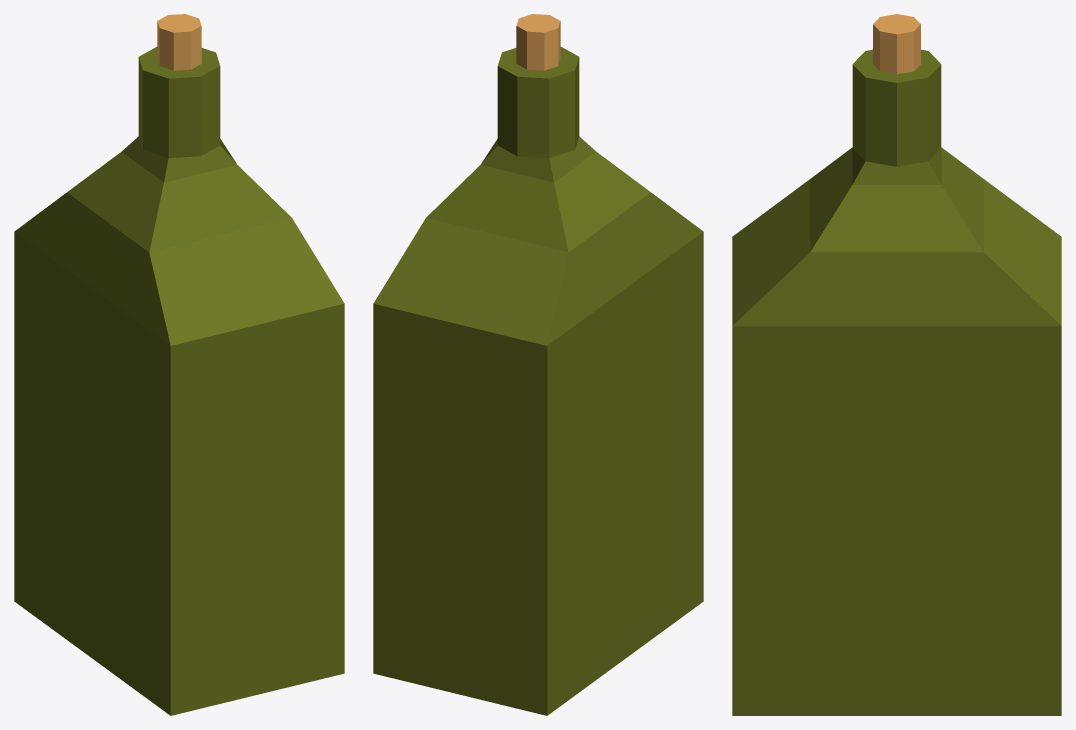
The model's file is bottle-whiskey.fbx.
3 renders of one model, left to right at view 1: azimuth 30°, elevation 25°; view 2: azimuth 150°, elevation 25°; view 3: azimuth 270°, elevation 25°, orthographic. The views are drawn at different scales.
Visible parts, largest first — view 1: Cylinder; view 2: Cylinder; view 3: Cylinder.
Part boxes in pixels (left/top/right/bottom): Cylinder: left=14, top=14, right=344, bottom=715; Cylinder: left=373, top=14, right=703, bottom=715; Cylinder: left=732, top=14, right=1061, bottom=715.
Bounding box in the file's own units: 0.2942 × 0.9934 × 0.4585.
